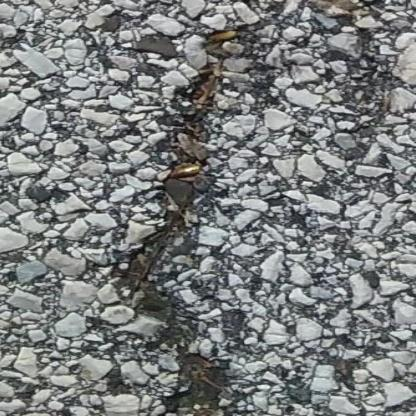Cracks: (117, 25, 269, 416), (284, 0, 400, 172), (249, 0, 273, 22)
